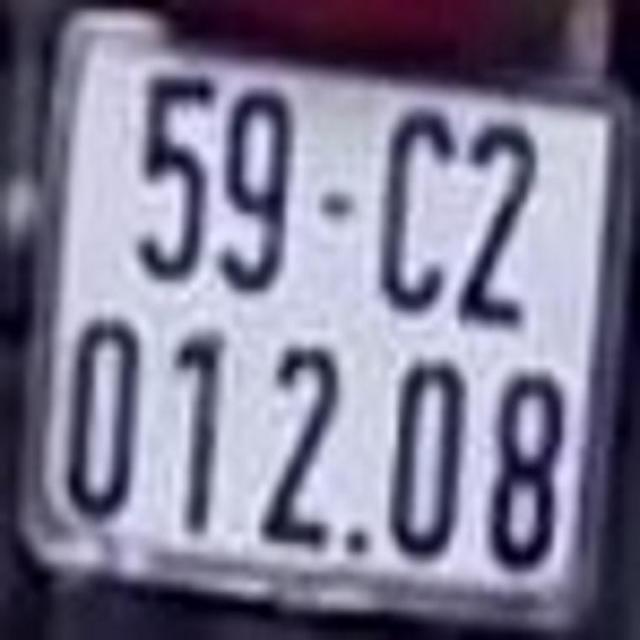0: (73, 316, 139, 518), (392, 359, 458, 555)
1: (166, 334, 232, 544)
2: (261, 344, 342, 545), (465, 121, 530, 329)
5: (137, 74, 210, 280)
8: (490, 367, 565, 571)
9: (223, 89, 284, 287)
C: (384, 101, 451, 316)
